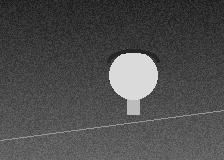no_helmet: (109, 49, 157, 104)
